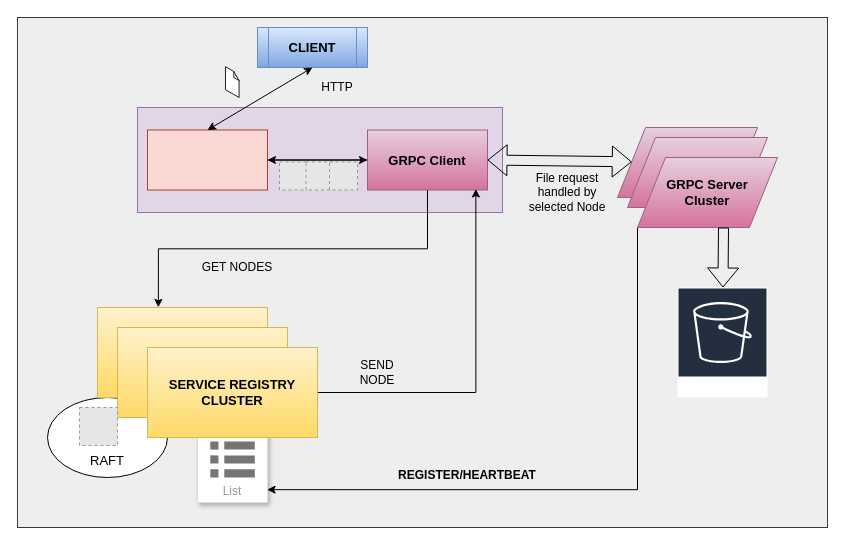
This 845x545 diagram has some shape labels left out. Grey dashed boxes stand in for pictures. Each missing label, with the centre of its shape:
"Amazon S3" belongs at point (722, 342).
"Web Server (Flask)" belongs at point (207, 159).
